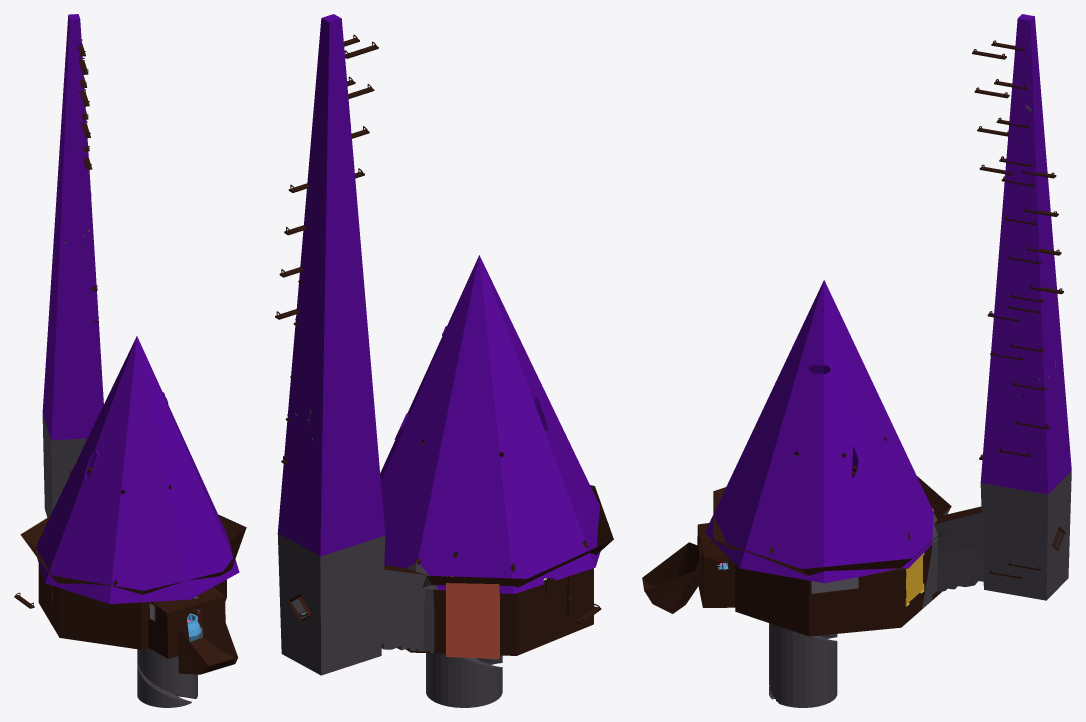
File: sisemus.glb
The picture shows the model from 3 angles, left to right: view 1: azimuth 30°, elevation 25°; view 2: azimuth 150°, elevation 25°; view 3: azimuth 270°, elevation 25°; orthographic projection. The views are drawn at different scales.
Visible parts, largest first — view 1: ruum, shelf.002; view 2: ruum, door, shelf.002; view 3: ruum, shelf.002.
Boxes of the visible parts, x1,y1,x2,y2 form: ruum: (20, 14, 246, 707); shelf.002: (77, 39, 98, 322); ruum: (277, 14, 613, 707); door: (446, 576, 499, 659); shelf.002: (275, 34, 378, 617); ruum: (642, 14, 1071, 707); shelf.002: (972, 40, 1063, 578).
Size of the model in its own units: 14.7 by 42.11 by 24.14.
